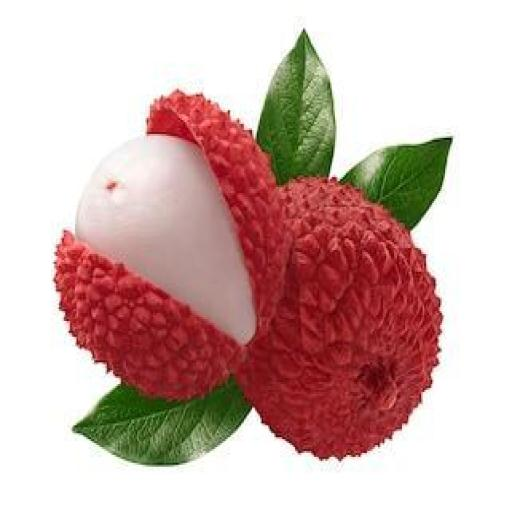lychee: (56, 93, 288, 399), (238, 180, 441, 458)
